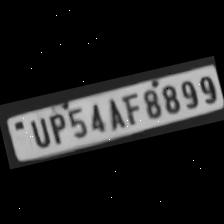4: (84, 98, 107, 134)
5: (62, 103, 90, 140)
8: (156, 80, 182, 116), (137, 85, 163, 120)
9: (194, 70, 220, 106), (176, 76, 201, 110)
A: (99, 94, 125, 130)
F: (118, 90, 144, 124)
P: (44, 109, 70, 145)
U: (25, 113, 52, 149)
